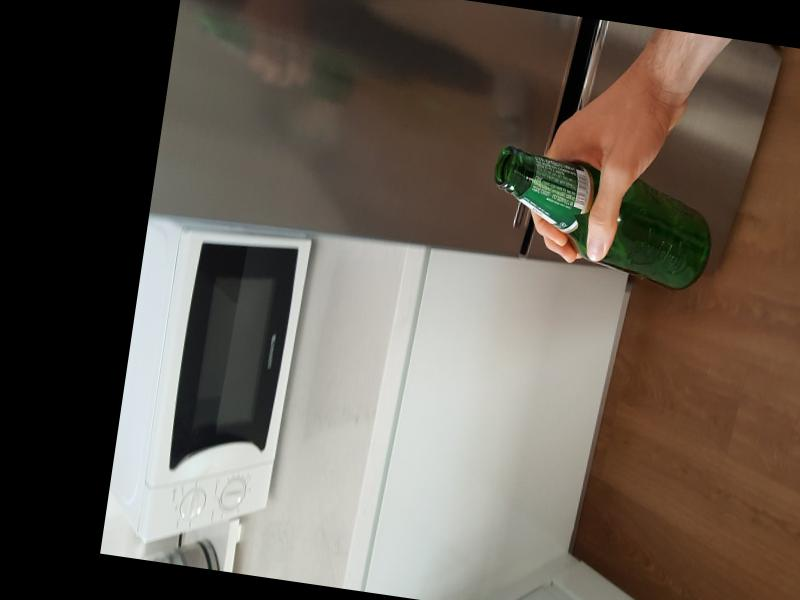Beer: (482, 145, 721, 291)
